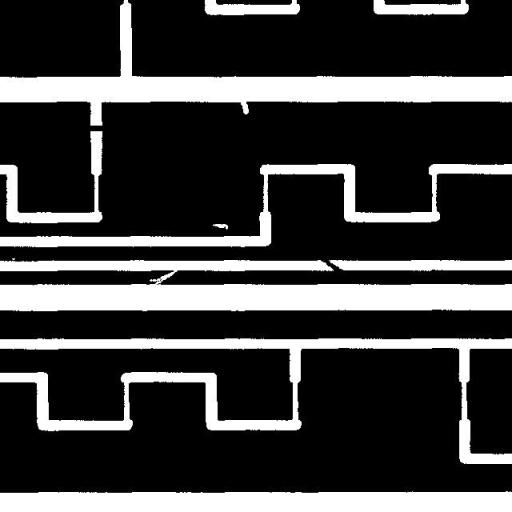mousebite: (231, 88, 256, 122)
open: (142, 262, 184, 295)
pin-hole: (205, 216, 235, 237)
short: (306, 246, 354, 284), (79, 118, 114, 138)
